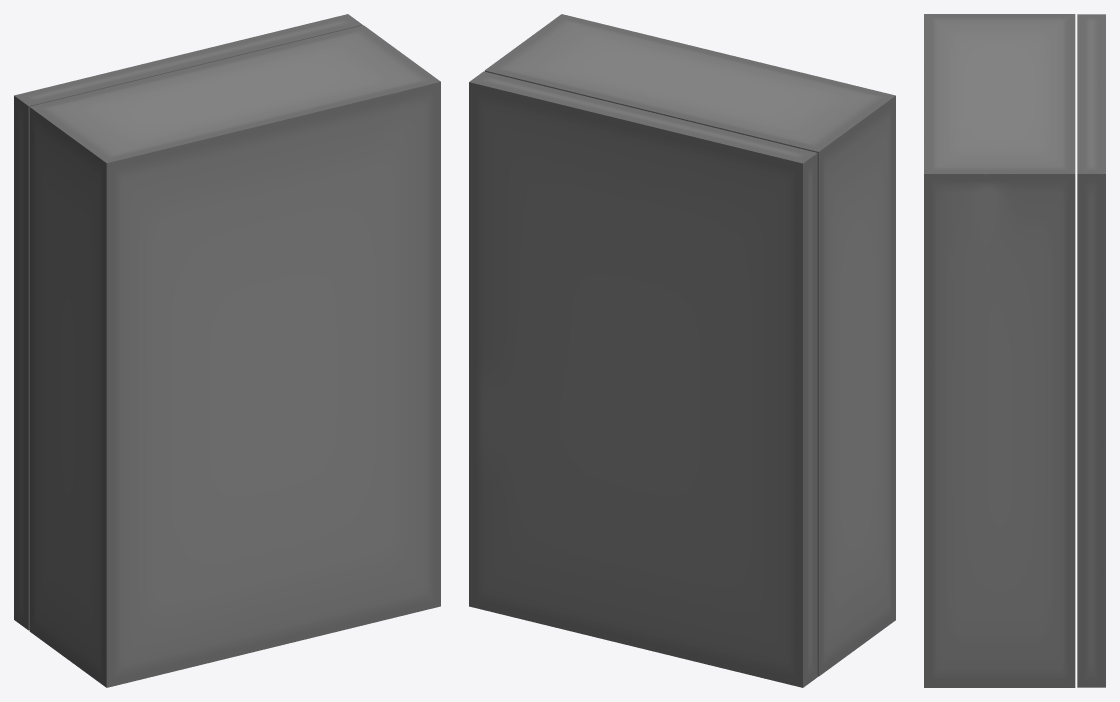
The model's file is TransformerBox.fbx.
The picture shows the model from 3 angles, left to right: view 1: azimuth 30°, elevation 25°; view 2: azimuth 150°, elevation 25°; view 3: azimuth 270°, elevation 25°; orthographic projection. The views are drawn at different scales.
Visible parts, largest first — view 1: TransformerBox; view 2: TransformerBox; view 3: TransformerBox.
Boxes of the visible parts, x1=… form: TransformerBox: x1=14, y1=14, x2=440, y2=687; TransformerBox: x1=469, y1=14, x2=895, y2=687; TransformerBox: x1=924, y1=14, x2=1105, y2=687.
Bounding box in the file's own units: 0.4055 × 0.1951 × 0.6083.
